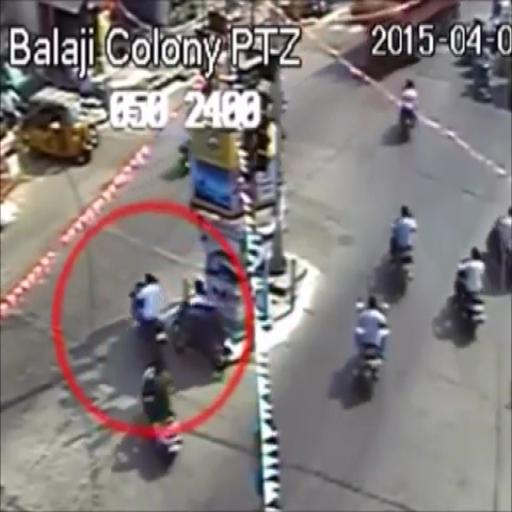小汽车: (28, 85, 90, 167)
自行车: (177, 281, 230, 369), (140, 358, 182, 463), (126, 273, 172, 352), (353, 295, 386, 391), (456, 244, 489, 336), (388, 202, 418, 295), (400, 77, 418, 139)
